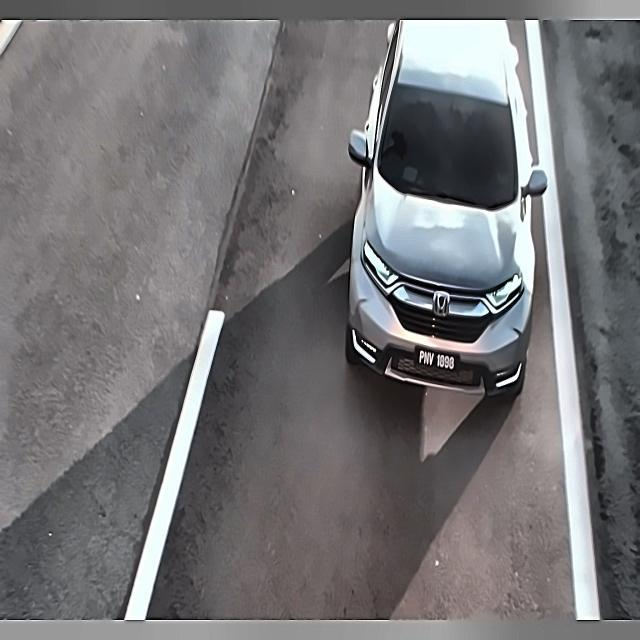car: (413, 338, 463, 381)
